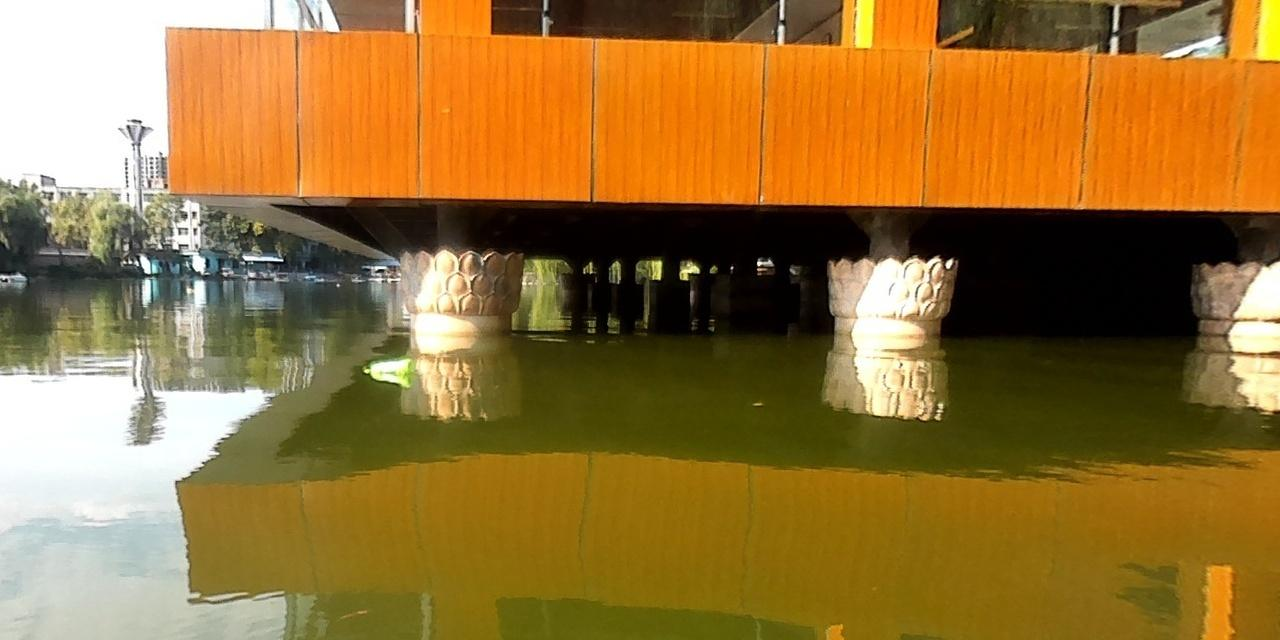bottle: (359, 357, 414, 376)
